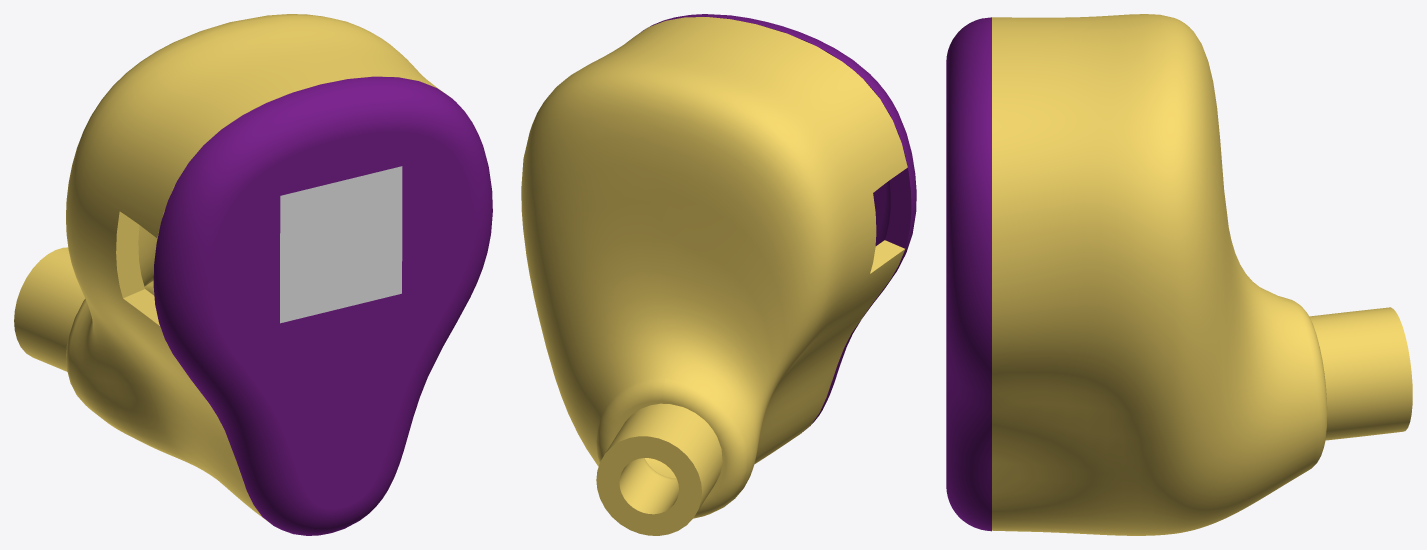
The model's file is juls.glb.
3 renders of one model, left to right at view 1: azimuth 30°, elevation 25°; view 2: azimuth 150°, elevation 25°; view 3: azimuth 270°, elevation 25°, orthographic. The views are drawn at different scales.
Visible parts, largest first — view 1: IEM1-cap, IEM1, Plane; view 2: IEM1, IEM1-cap; view 3: IEM1, IEM1-cap.
Part boxes in pixels (left/top/right/bottom): IEM1-cap: left=153, top=76, right=492, bottom=535; IEM1: left=14, top=14, right=450, bottom=521; Plane: left=280, top=166, right=402, bottom=323; IEM1: left=521, top=17, right=907, bottom=535; IEM1-cap: left=641, top=14, right=916, bottom=433; IEM1: left=992, top=14, right=1412, bottom=535; IEM1-cap: left=946, top=17, right=991, bottom=531.
Bounding box in the file's own units: 0.0185 × 0.0232 × 0.0205.
